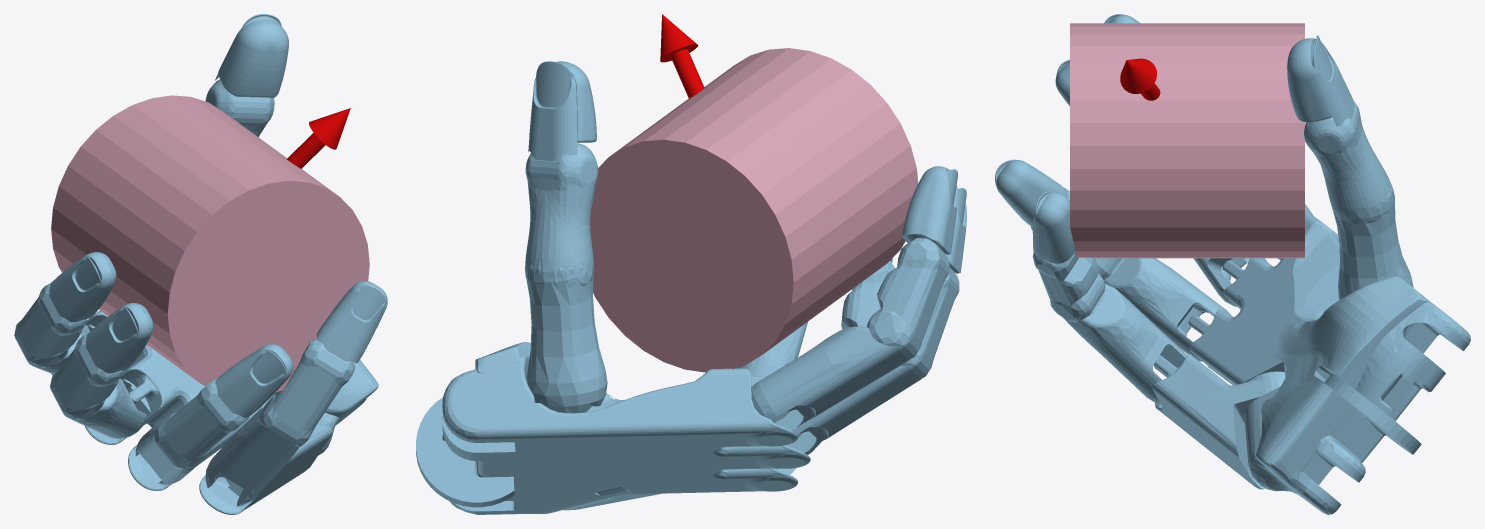
3 renders of one model, left to right at view 1: azimuth 30°, elevation 25°; view 2: azimuth 150°, elevation 25°; view 3: azimuth 270°, elevation 25°, orthographic. The views are drawn at different scales.
Visible parts, largest first — view 1: cylinder_medium.stl, world; view 2: world, cylinder_medium.stl; view 3: world, cylinder_medium.stl.
Boxes of the visible parts, box(x1,y1,x2,y2) form: cylinder_medium.stl: box(51, 95, 369, 392); world: box(14, 14, 387, 514); world: box(416, 14, 966, 514); cylinder_medium.stl: box(590, 48, 918, 372); world: box(995, 14, 1470, 514); cylinder_medium.stl: box(1070, 23, 1304, 258).
Size of the model in its own units: 0.1551 by 0.1665 by 0.162.
